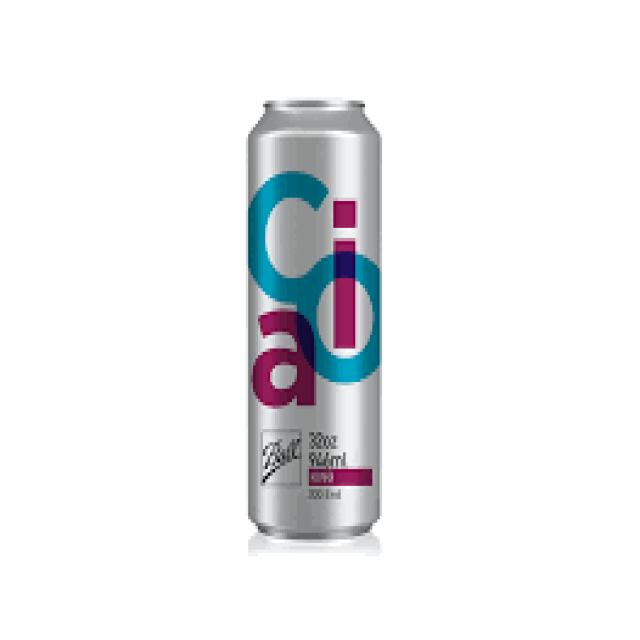Cans: (241, 80, 397, 546)
